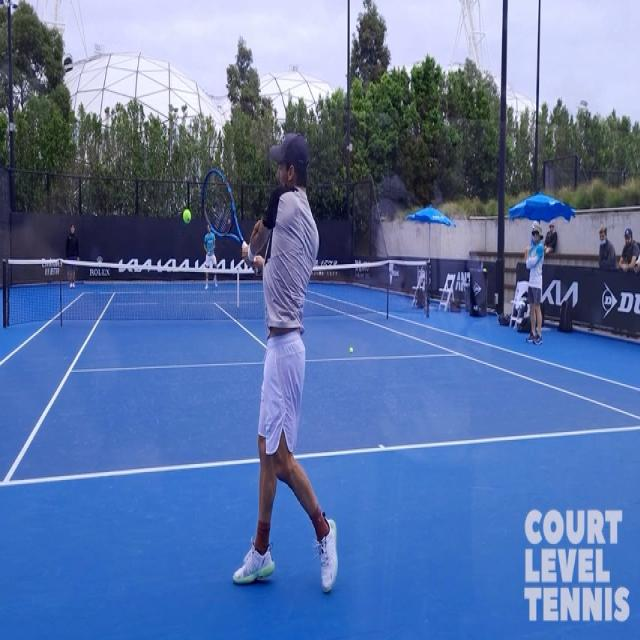backhand-stroke: (191, 118, 357, 618)
